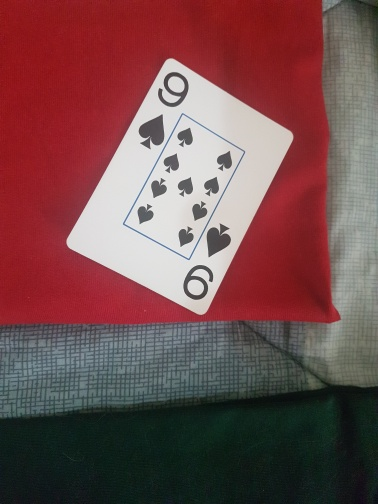nine: (66, 59, 294, 315)
